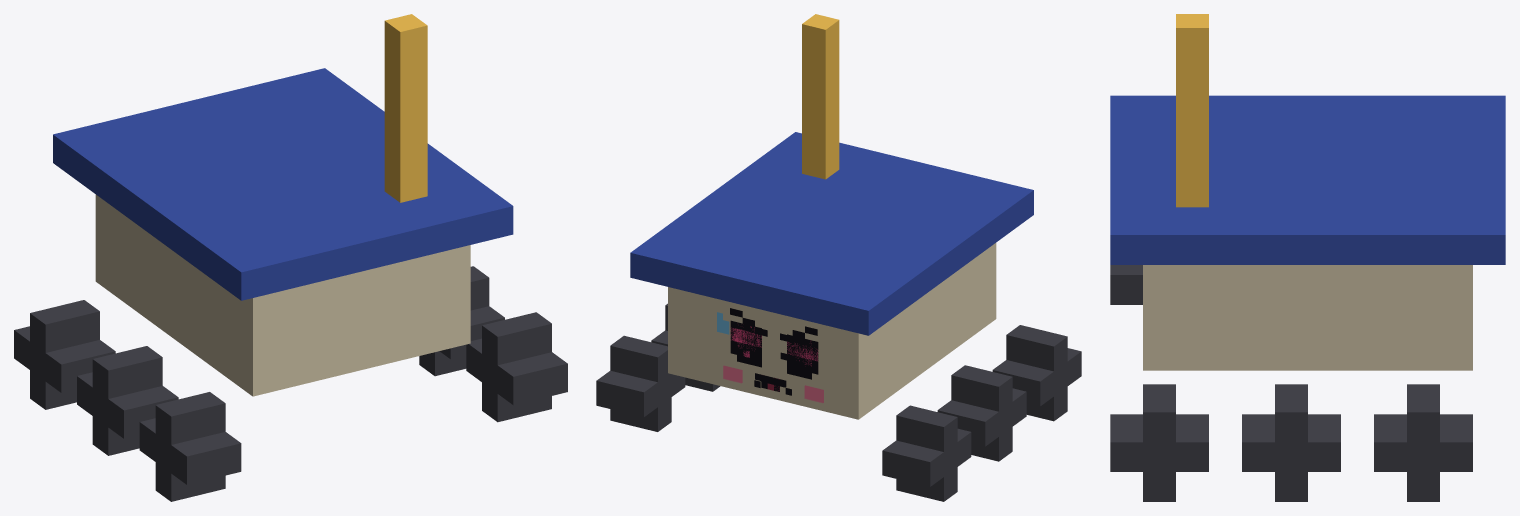
File: sojourner.obj
The picture shows the model from 3 angles, left to right: view 1: azimuth 30°, elevation 25°; view 2: azimuth 150°, elevation 25°; view 3: azimuth 270°, elevation 25°; orthographic projection. The views are drawn at different scales.
Visible parts, largest first — view 1: panel, cuerpo, ruedas, antena, antena_punta; view 2: panel, cuerpo, ruedas, antena, cara_feliz_ojos, antena_punta, cara_enamorada_corazon, cara_espiral_ojos, cara_enojado_cejas; view 3: panel, cuerpo, ruedas, antena, antena_punta.
Boxes of the visible parts, box(x1,y1,x2,y2) form: panel: box(53, 68, 513, 300); cuerpo: box(95, 194, 470, 396); ruedas: box(14, 266, 567, 501); antena: box(384, 49, 427, 202); antena_punta: box(384, 14, 427, 60); panel: box(630, 132, 1033, 335); cuerpo: box(668, 243, 996, 419); ruedas: box(596, 303, 1081, 501); antena: box(802, 45, 839, 179); cara_feliz_ojos: box(737, 322, 811, 379); antena_punta: box(802, 14, 839, 54); cara_enamorada_corazon: box(730, 326, 818, 366); cara_espiral_ojos: box(730, 320, 818, 374); cara_enojado_cejas: box(730, 308, 817, 342); panel: box(1110, 95, 1505, 264); cuerpo: box(1143, 265, 1472, 370); ruedas: box(1110, 265, 1472, 501); antena: box(1176, 57, 1208, 207); antena_punta: box(1176, 14, 1208, 57).
Size of the model in its own units: 0.56 by 0.56 by 0.48.
